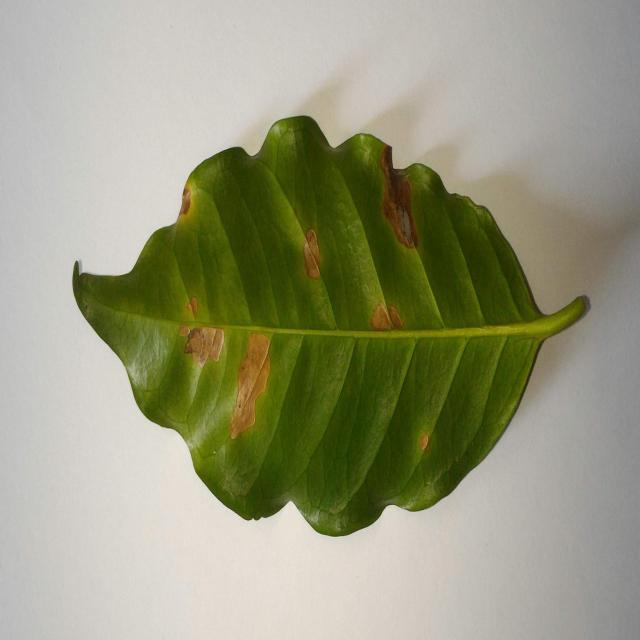Plaga-Minador: (70, 116, 590, 539)
